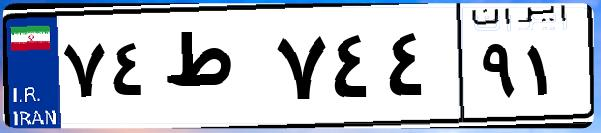1: (525, 38, 570, 115)
4: (385, 28, 445, 110), (330, 28, 385, 110), (110, 28, 158, 98)
7: (270, 28, 330, 110), (57, 26, 110, 100)
9: (475, 38, 525, 113)
ط: (158, 20, 270, 120)
